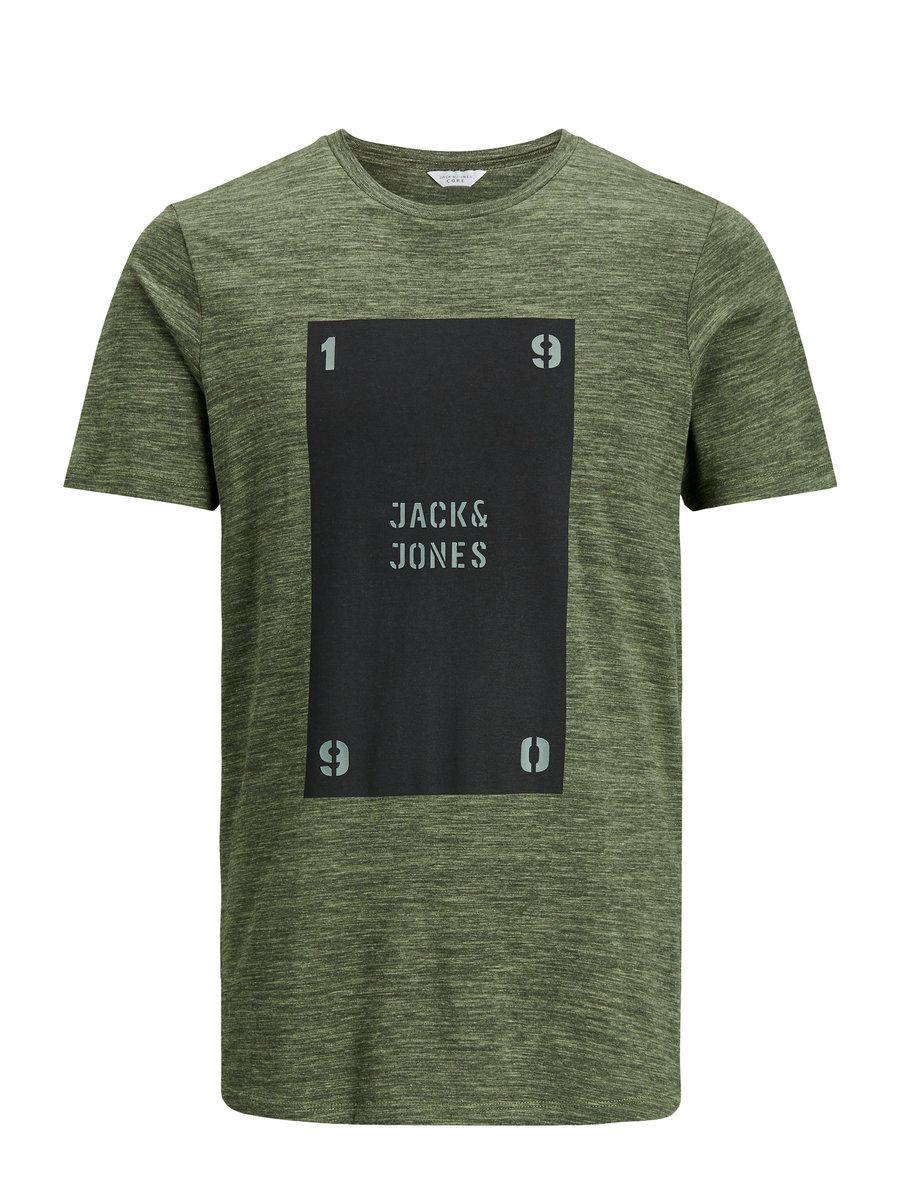teeshirt: (36, 116, 878, 1174)
